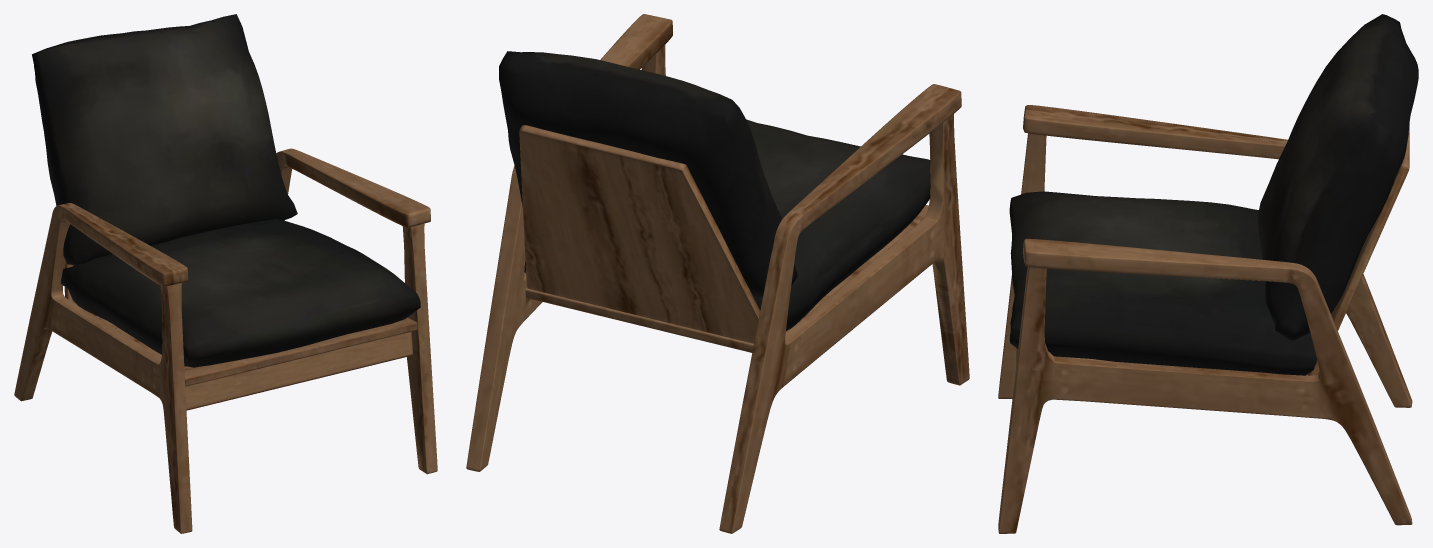
The model's file is modern_arm_chair_01.glb.
3 renders of one model, left to right at view 1: azimuth 30°, elevation 25°; view 2: azimuth 150°, elevation 25°; view 3: azimuth 270°, elevation 25°, orthographic. The views are drawn at different scales.
Parts seen in each view (by area): view 1: modern_arm_chair_01; view 2: modern_arm_chair_01; view 3: modern_arm_chair_01.
Boxes of the visible parts, x1,y1,x2,y2 form: modern_arm_chair_01: [14, 14, 437, 533]; modern_arm_chair_01: [466, 14, 969, 533]; modern_arm_chair_01: [998, 14, 1418, 533].
Bounding box in the file's own units: 0.8203 × 1.02 × 0.9865.
2 materials, 2 textured.
